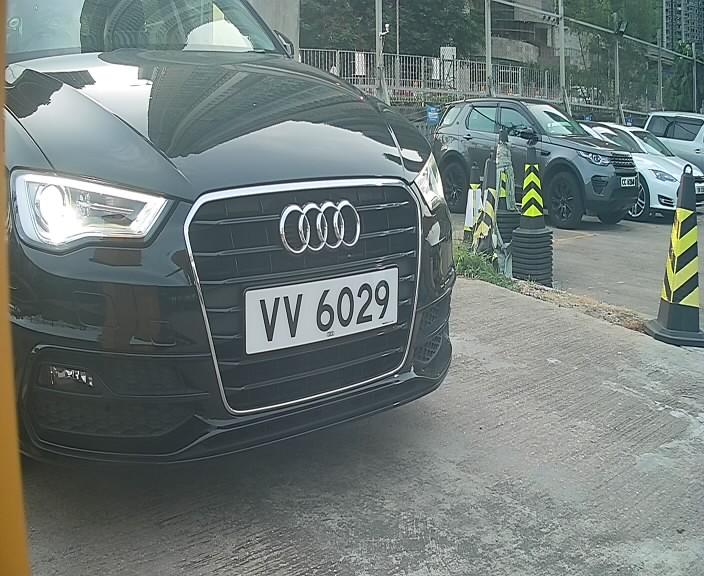License Plate: (239, 263, 400, 355)
